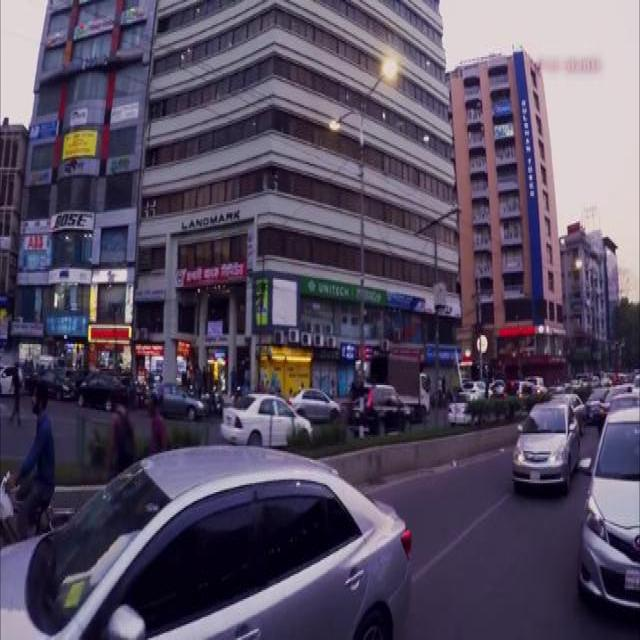11: (367, 349, 429, 416)
15: (348, 380, 412, 431), (500, 377, 536, 413)
5: (0, 441, 412, 636), (576, 406, 638, 610), (510, 398, 578, 488), (220, 389, 312, 440), (76, 370, 130, 409), (147, 381, 206, 416), (286, 385, 340, 415), (36, 367, 74, 398), (446, 389, 482, 419), (0, 361, 23, 393), (462, 378, 492, 397)
Motorcycle: (0, 475, 74, 530)
